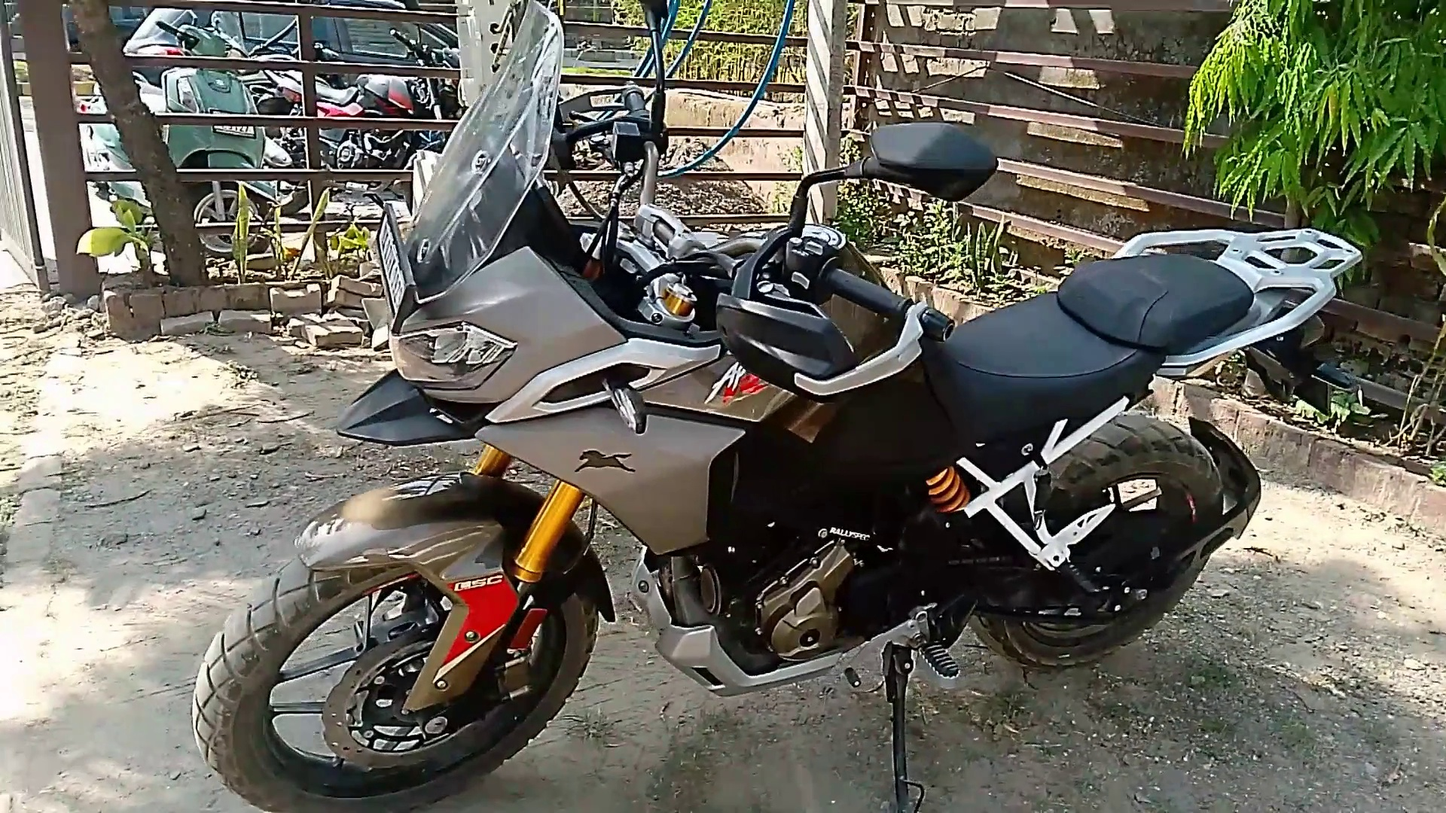engine: (736, 486, 864, 687)
